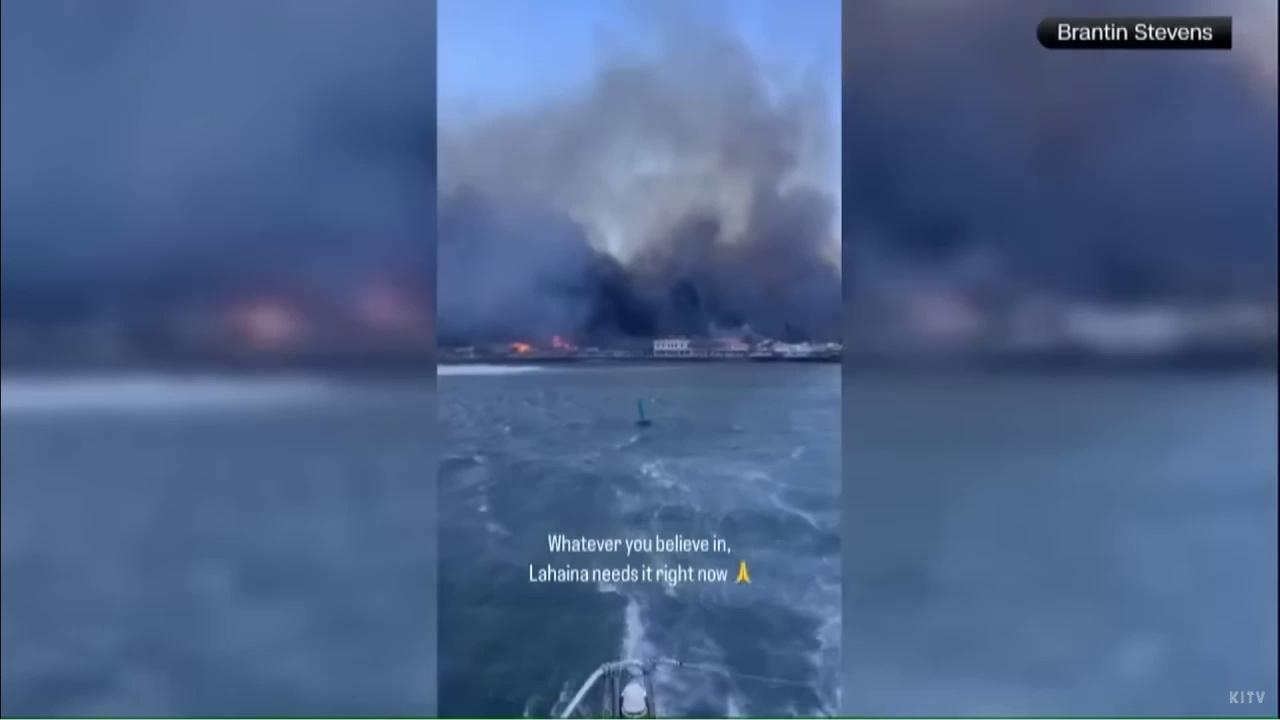fire: (552, 335, 578, 352), (510, 341, 534, 353)
smoke: (437, 6, 842, 350)
